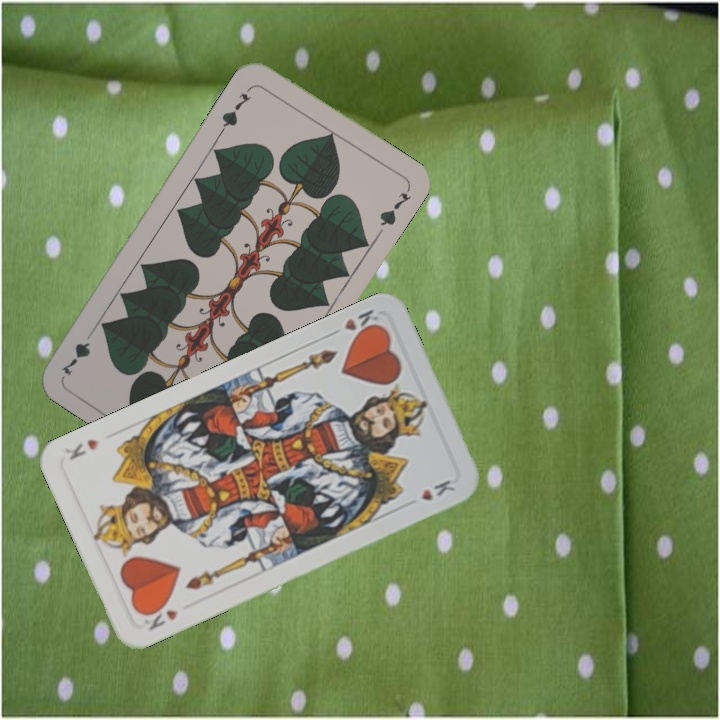G7: (217, 89, 254, 134)
HK: (325, 305, 385, 341), (138, 599, 181, 634)
